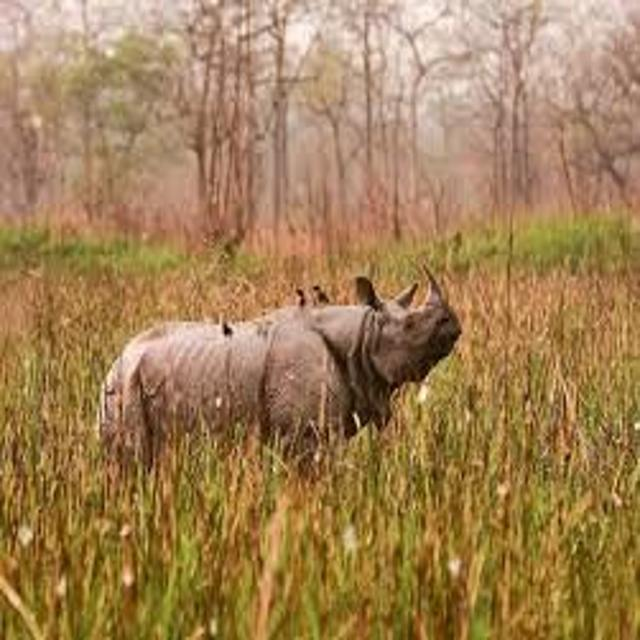rhino: (73, 233, 487, 521)
